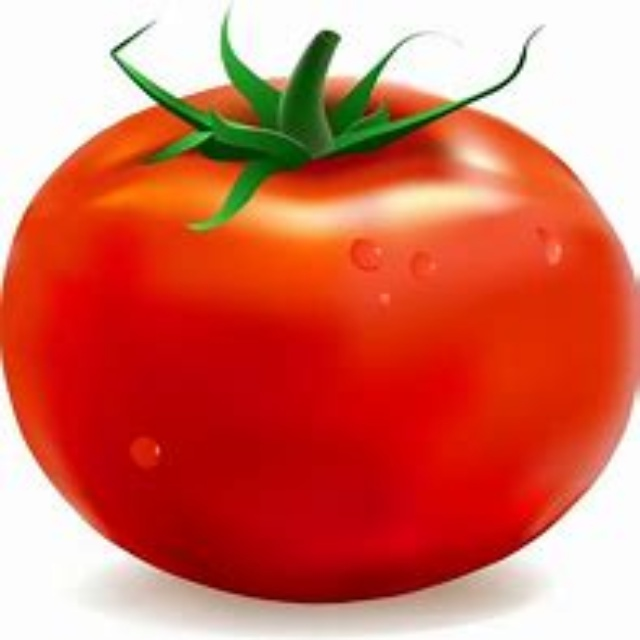tomato: (1, 25, 636, 603)
